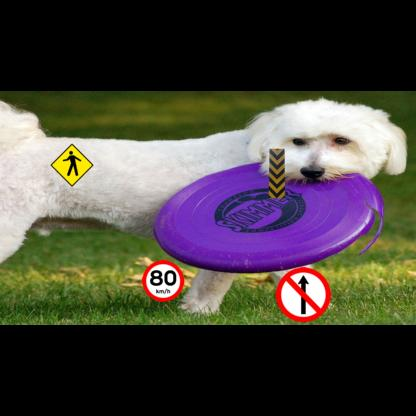A-32a: (50, 144, 93, 187)
O-MP: (269, 149, 285, 198)
R-19: (142, 260, 184, 302)
R-3: (276, 267, 331, 322)
